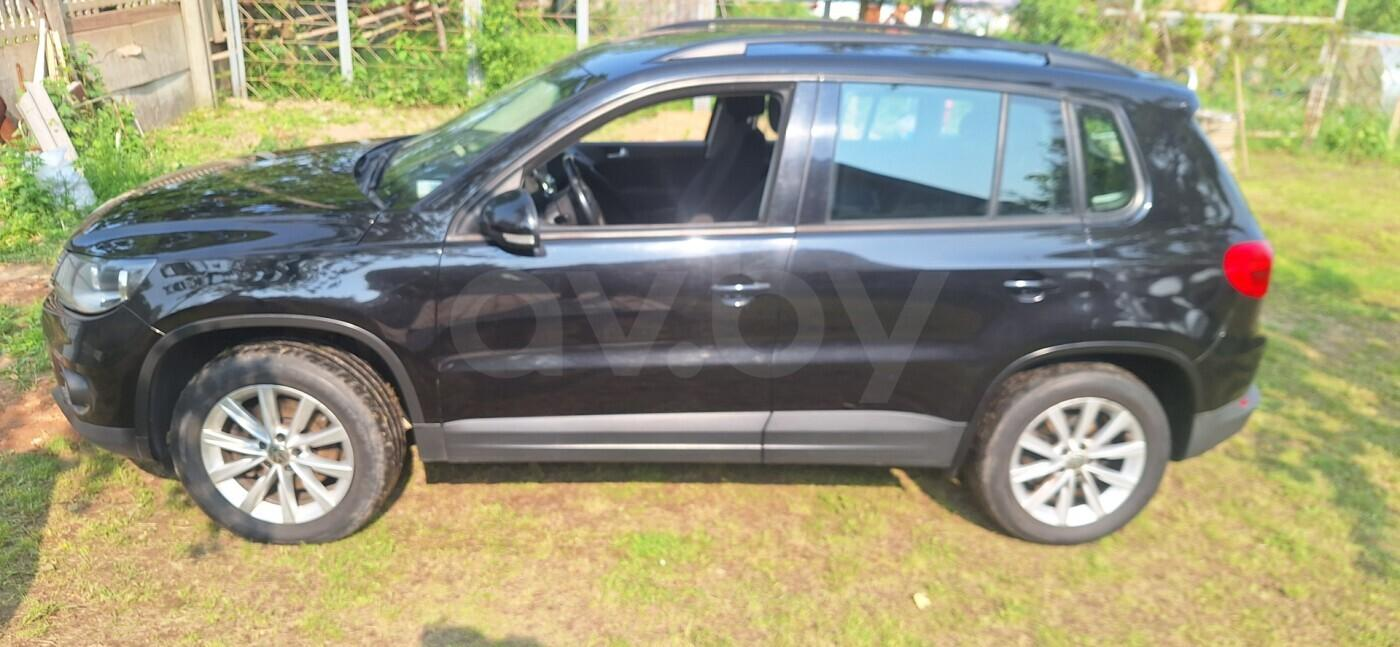Tiguan_2011-2018: (41, 20, 1274, 547)
